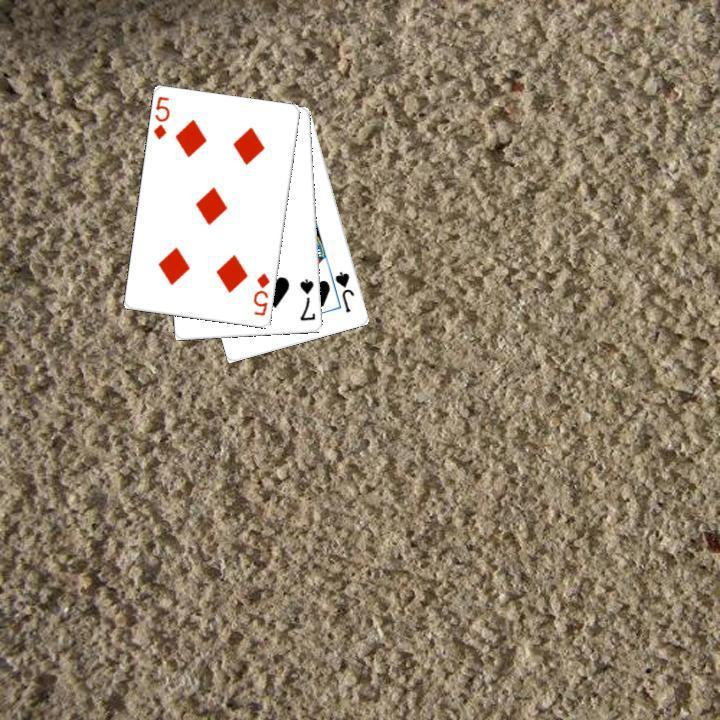5: (149, 92, 172, 142), (249, 269, 272, 318)
7: (296, 275, 318, 323)
J: (331, 267, 357, 315)
